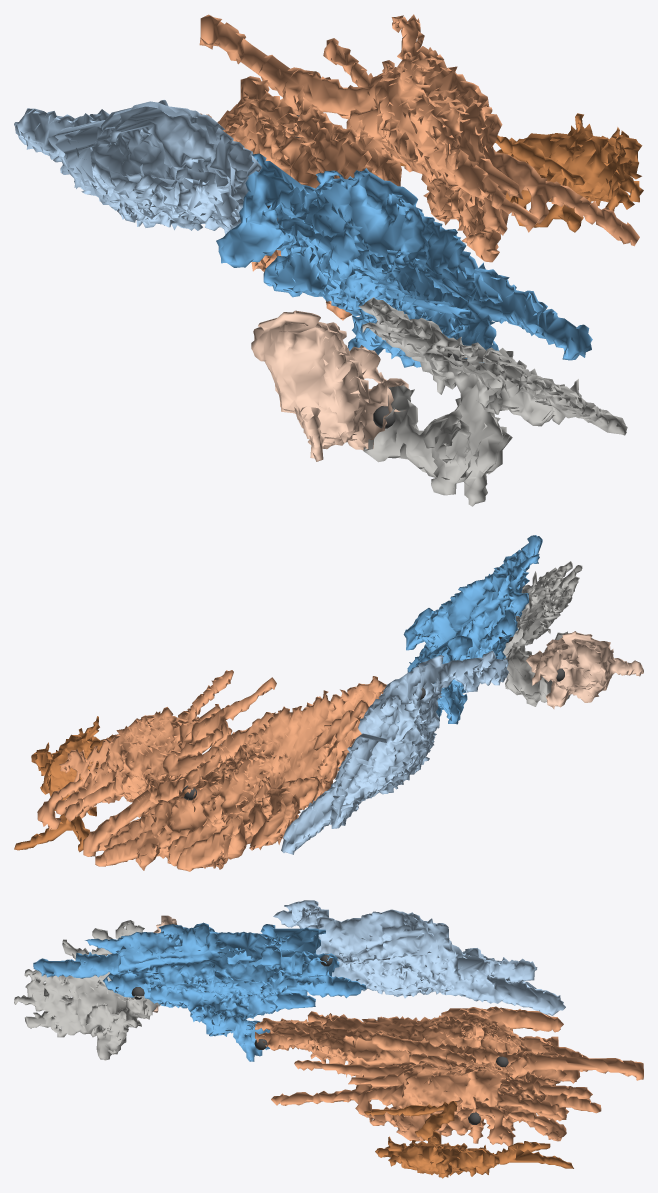
File: sample_1_3_group_1.glb
The picture shows the model from 3 angles, top to bottom: view 1: azimuth 30°, elevation 25°; view 2: azimuth 150°, elevation 25°; view 3: azimuth 270°, elevation 25°; orthographic projection. The views are drawn at different scales.
Visible parts, largest first — view 1: osteocyte_83_elongated, osteocyte_42_round, osteocyte_75_elongated, osteocyte_29_untyped, osteocyte_46_round, osteocyte_27_round, osteocyte_20_round; view 2: osteocyte_27_round, osteocyte_42_round, osteocyte_75_elongated, osteocyte_83_elongated, osteocyte_46_round, osteocyte_29_untyped, osteocyte_20_round; view 3: osteocyte_83_elongated, osteocyte_42_round, osteocyte_75_elongated, osteocyte_27_round, osteocyte_29_untyped, osteocyte_20_round.
Part boxes in pixels (x1,y1,x2,y2): osteocyte_83_elongated: (216,153,592,367); osteocyte_42_round: (199,14,639,262); osteocyte_75_elongated: (14,99,278,234); osteocyte_29_untyped: (359,297,627,506); osteocyte_46_round: (251,310,409,461); osteocyte_27_round: (200,76,377,320); osteocyte_20_round: (400,113,643,232); osteocyte_27_round: (95,676,386,871); osteocyte_42_round: (37,670,276,856); osteocyte_75_elongated: (281,650,508,854); osteocyte_83_elongated: (397,535,542,724); osteocyte_46_round: (526,631,643,709); osteocyte_29_untyped: (503,561,582,706); osteocyte_20_round: (14,711,160,852); osteocyte_83_elongated: (33,922,366,1061); osteocyte_42_round: (271,1032,643,1146); osteocyte_75_elongated: (273,900,565,1015); osteocyte_27_round: (255,1006,601,1135); osteocyte_29_untyped: (14,920,160,1060); osteocyte_20_round: (364,1101,573,1178).
Bounding box in the file's own units: 74.97 × 25.68 × 114.
